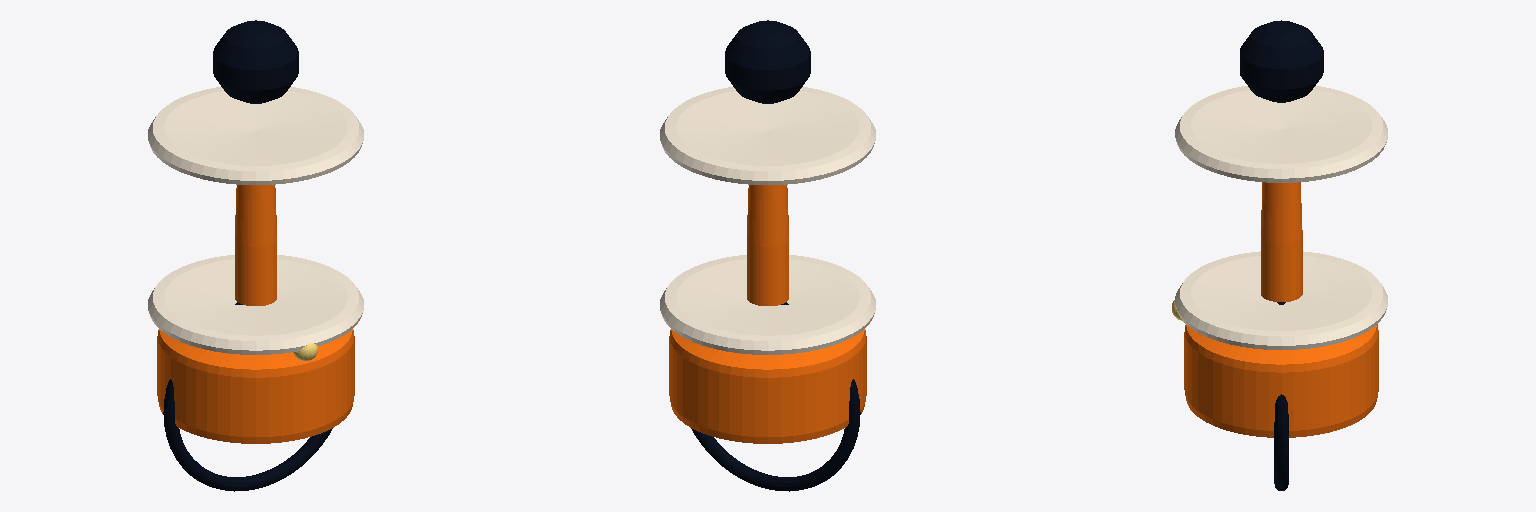
URDF robot description (keenon_peanut):
<?xml version="1.0"?>
<!--
  Keenon Peanut 送餐机器人 URDF（peanut-001）— STL mesh 版
  结构：底盘 + 防撞圈 + 双层托盘 + 立柱 + 头部屏 + 导航灯，全部固定关节（送餐机无关节遥测）
  几何：meshes/*.stl 由 packages/digital-twin/scripts/generate-peanut-stl.mjs 程序化生成
        （Keenon 无公开 STL 仓库，按真机造型生成；ROS z-up 约定，走与工业臂相同的
        three-urdf convertToYUp + packageMap 管线）
  尺寸与原内联 box 版逐件一致（origin xyz 全部未动，底盘底面离地 0.07m 不变）
-->
<robot name="keenon_peanut">

  <!-- 材质定义（rgba） -->
  <material name="orange">
    <color rgba="1.0 0.478 0.094 1.0"/>
  </material>
  <material name="cream">
    <color rgba="1.0 0.953 0.878 1.0"/>
  </material>
  <material name="dark">
    <color rgba="0.063 0.090 0.145 1.0"/>
  </material>
  <material name="navlight">
    <color rgba="1.0 0.878 0.510 1.0"/>
  </material>

  <!-- 底盘：橙色圆角回转体（r=0.30，高 0.3） -->
  <link name="base">
    <visual>
      <origin xyz="0 0 0.22" rpy="0 0 0"/>
      <geometry><mesh filename="package://peanut_support/meshes/base.stl"/></geometry>
      <material name="orange"/>
    </visual>
  </link>

  <!-- 防撞圈：底盘底部深色橡胶环（真机特征件） -->
  <link name="bumper">
    <visual>
      <origin xyz="0 0 0.13" rpy="0 0 0"/>
      <geometry><mesh filename="package://peanut_support/meshes/bumper.stl"/></geometry>
      <material name="dark"/>
    </visual>
  </link>
  <joint name="base_to_bumper" type="fixed">
    <parent link="base"/>
    <child link="bumper"/>
    <origin xyz="0 0 0" rpy="0 0 0"/>
  </joint>

  <!-- 下托盘：奶油色圆盘带沿口（上下层共用 tray.stl） -->
  <link name="lower_tray">
    <visual>
      <origin xyz="0 0 0.42" rpy="0 0 0"/>
      <geometry><mesh filename="package://peanut_support/meshes/tray.stl"/></geometry>
      <material name="cream"/>
    </visual>
  </link>
  <joint name="base_to_lower_tray" type="fixed">
    <parent link="base"/>
    <child link="lower_tray"/>
    <origin xyz="0 0 0" rpy="0 0 0"/>
  </joint>

  <!-- 立柱：橙色锥形柱（r 0.065→0.055） -->
  <link name="column">
    <visual>
      <origin xyz="0 0 0.7" rpy="0 0 0"/>
      <geometry><mesh filename="package://peanut_support/meshes/column.stl"/></geometry>
      <material name="orange"/>
    </visual>
  </link>
  <joint name="base_to_column" type="fixed">
    <parent link="base"/>
    <child link="column"/>
    <origin xyz="0 0 0" rpy="0 0 0"/>
  </joint>

  <!-- 上托盘 -->
  <link name="upper_tray">
    <visual>
      <origin xyz="0 0 0.99" rpy="0 0 0"/>
      <geometry><mesh filename="package://peanut_support/meshes/tray.stl"/></geometry>
      <material name="cream"/>
    </visual>
  </link>
  <joint name="column_to_upper_tray" type="fixed">
    <parent link="column"/>
    <child link="upper_tray"/>
    <origin xyz="0 0 0" rpy="0 0 0"/>
  </joint>

  <!-- 头部：深色圆润舱（加载后叠 emissive 蓝光，见 PeanutBot.tsx 遍历） -->
  <link name="head">
    <visual>
      <origin xyz="0 0 1.24" rpy="0 0 0"/>
      <geometry><mesh filename="package://peanut_support/meshes/head.stl"/></geometry>
      <material name="dark"/>
    </visual>
  </link>
  <joint name="column_to_head" type="fixed">
    <parent link="column"/>
    <child link="head"/>
    <origin xyz="0 0 0" rpy="0 0 0"/>
  </joint>

  <!-- 导航灯：暖黄小球（加载后叠 emissive，位置对齐原占位模型局部 +Z 前向） -->
  <link name="nav_light">
    <visual>
      <origin xyz="0 -0.3 0.4" rpy="0 0 0"/>
      <geometry><mesh filename="package://peanut_support/meshes/nav_light.stl"/></geometry>
      <material name="navlight"/>
    </visual>
  </link>
  <joint name="base_to_nav_light" type="fixed">
    <parent link="base"/>
    <child link="nav_light"/>
    <origin xyz="0 0 0" rpy="0 0 0"/>
  </joint>

</robot>

--- Facts derived from the render (not from the file) ---
3 views of the same robot in one strip: view 1: azimuth 30°, elevation 25°; view 2: azimuth 150°, elevation 25°; view 3: azimuth 270°, elevation 25° (orthographic).
Robot: keenon_peanut — 7 links, 6 joints (6 fixed); root link base; default pose: all joints at 0.
Visible links, largest first — view 1: base, upper_tray, lower_tray, head, column, bumper; view 2: base, upper_tray, lower_tray, head, column, bumper; view 3: base, upper_tray, lower_tray, head, column, bumper.
Boxes of the visible links, x1,y1,x2,y2 form: base: (157,329,354,443); upper_tray: (148,87,363,184); lower_tray: (148,255,363,354); head: (213,20,298,103); column: (235,185,276,305); bumper: (163,302,332,491); base: (669,329,866,443); upper_tray: (660,87,875,184); lower_tray: (660,255,875,354); head: (725,20,810,103); column: (747,185,788,305); bumper: (691,302,860,491); base: (1184,324,1378,437); upper_tray: (1175,86,1387,182); lower_tray: (1175,251,1387,349); head: (1240,20,1323,102); column: (1261,182,1302,301); bumper: (1274,302,1288,490).
Size in the robot's own frame: 0.66 by 0.67 by 1.55 metres.
7 mesh visuals loaded from 6 distinct referenced files (6 binary STL).
